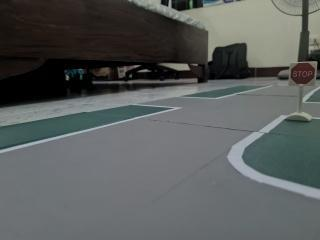stop: (291, 59, 316, 89)
